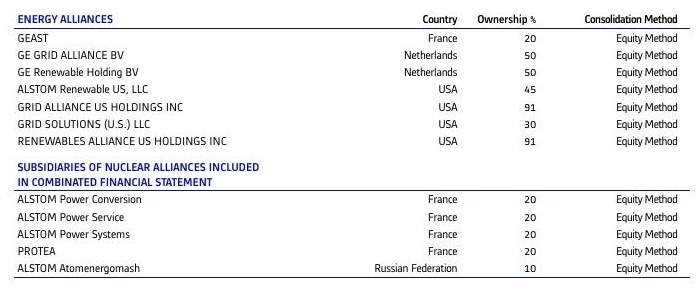table: (0, 0, 699, 287)
